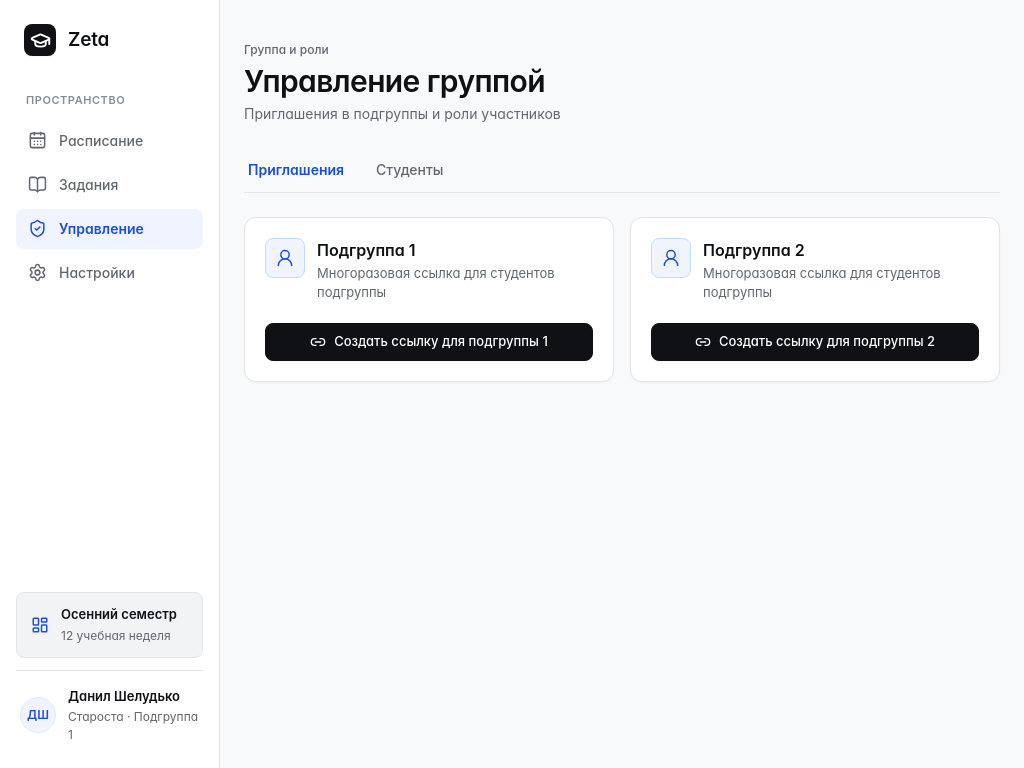
AdminPage › lists students from the API and transfers the head role
Expected: the button "Создать ссылку для подгруппы 1" is shown, [265,322,593,360]
Click the tab "Студенты": point(410, 170) [372,148,447,192]
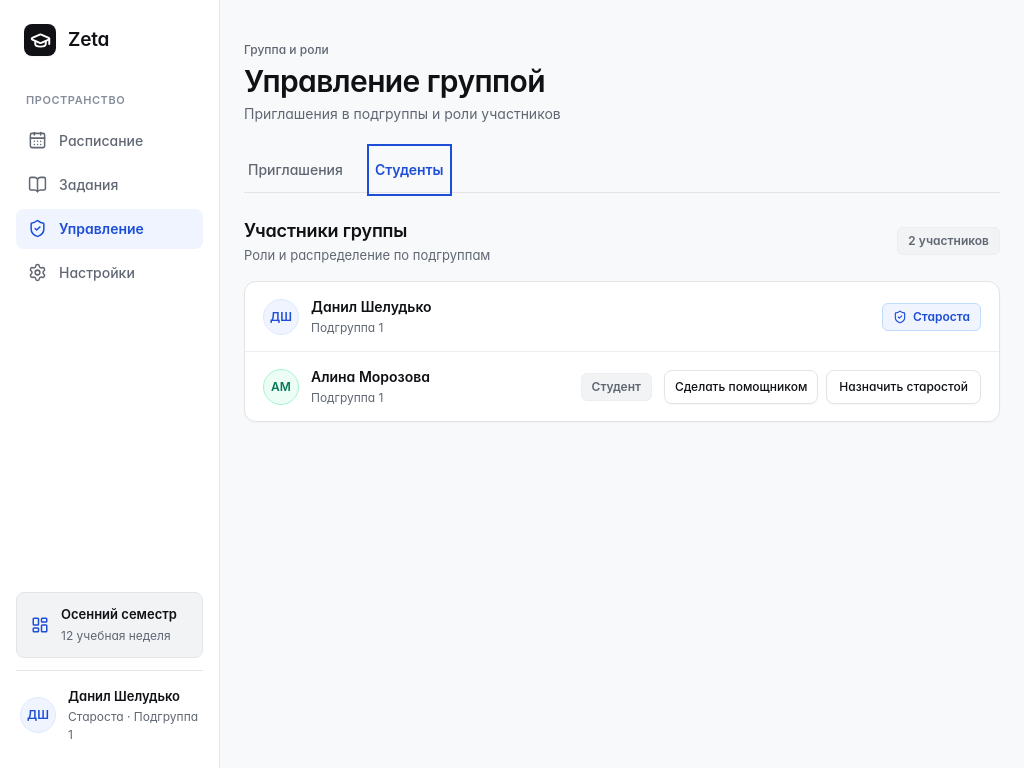
Result: the text "Алина Морозова" is shown at [311,366,430,387]
Result: the text "2 участников" is shown at [897,227,1000,255]
Result: the text "Староста" is shown at [882,302,981,330]
Click the button with aria-label "Назначить старостой: Алина Морозова": point(904, 386) [826,370,981,404]
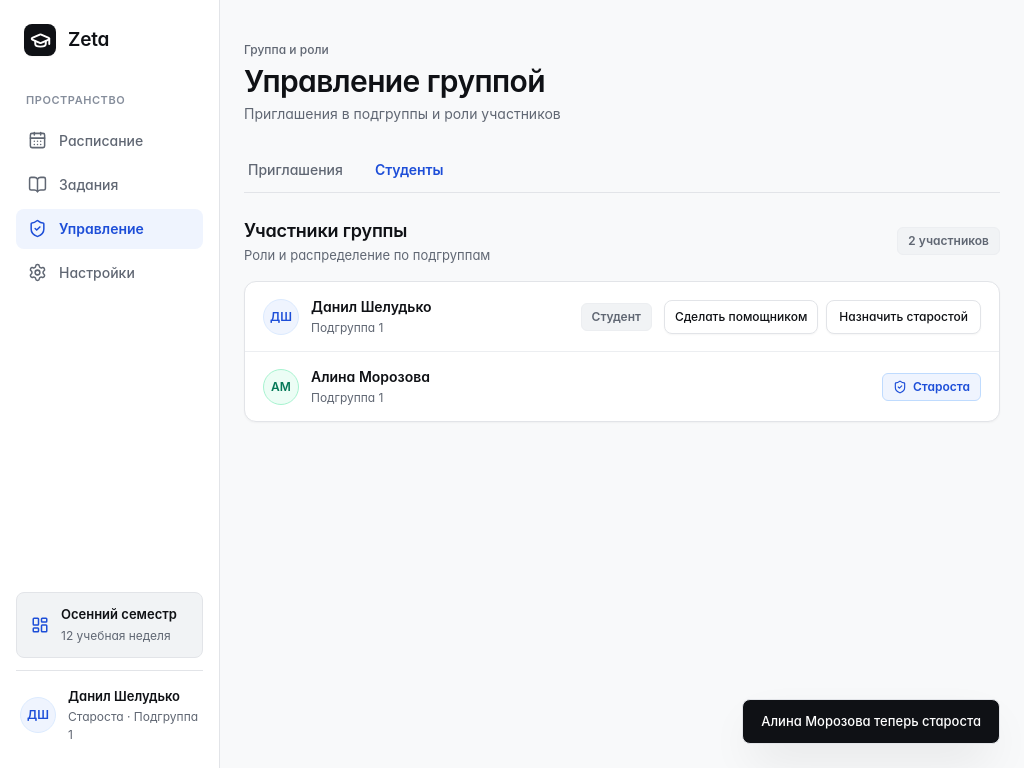
Result: the list item "Алина Морозова" shows "Староста" at [913,378,970,394]
Result: the list item "Данил Шелудько" shows "Студент" at [592,308,641,324]
Result: the message reads "Алина Морозова теперь староста" at [761,712,981,728]
